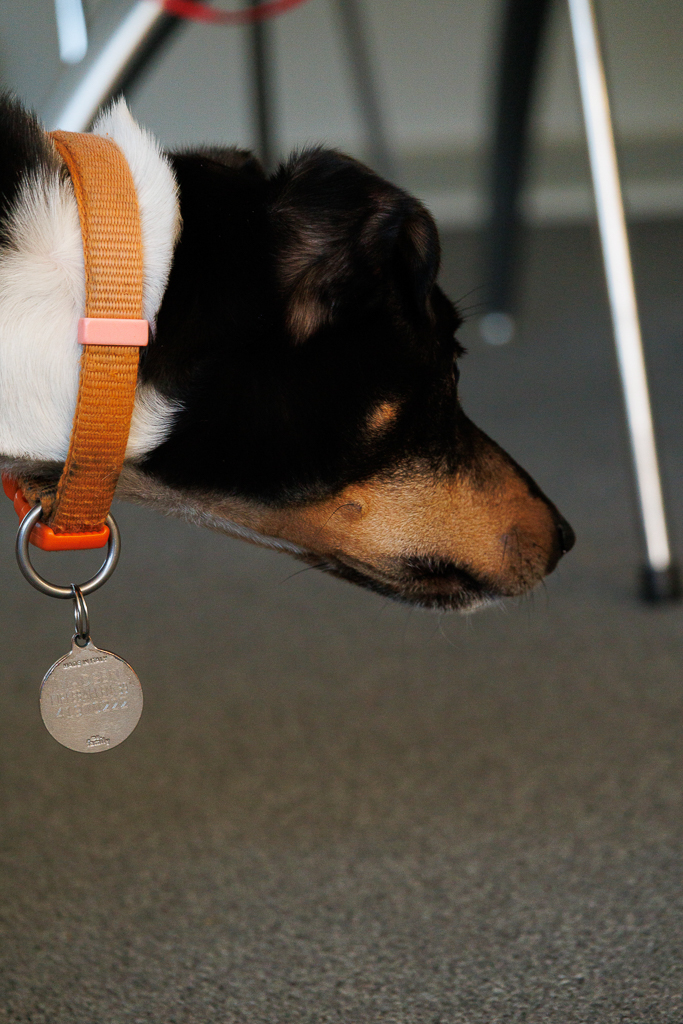Dog: (0, 70, 593, 639)
